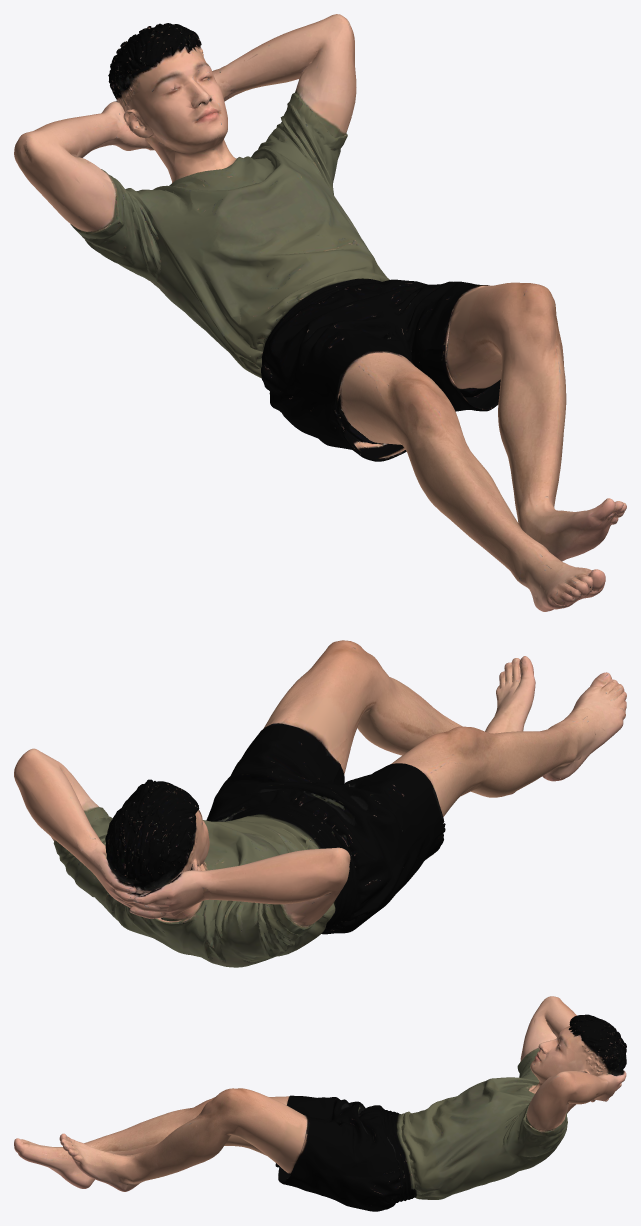
File: sleeper.glb
3 views of the same model, one above another, from view 1: azimuth 30°, elevation 25°; view 2: azimuth 150°, elevation 25°; view 3: azimuth 270°, elevation 25° (orthographic). The views are drawn at different scales.
Parts seen in each view (by area): view 1: output; view 2: output; view 3: output.
Boxes of the visible parts, box(x1,y1,x2,y2) form: output: box(14, 14, 626, 611); output: box(14, 640, 626, 967); output: box(14, 996, 626, 1211).
Size of the model in its own units: 0.7716 by 0.6083 by 1.9.
Materials: 1 (1 with a texture image).
